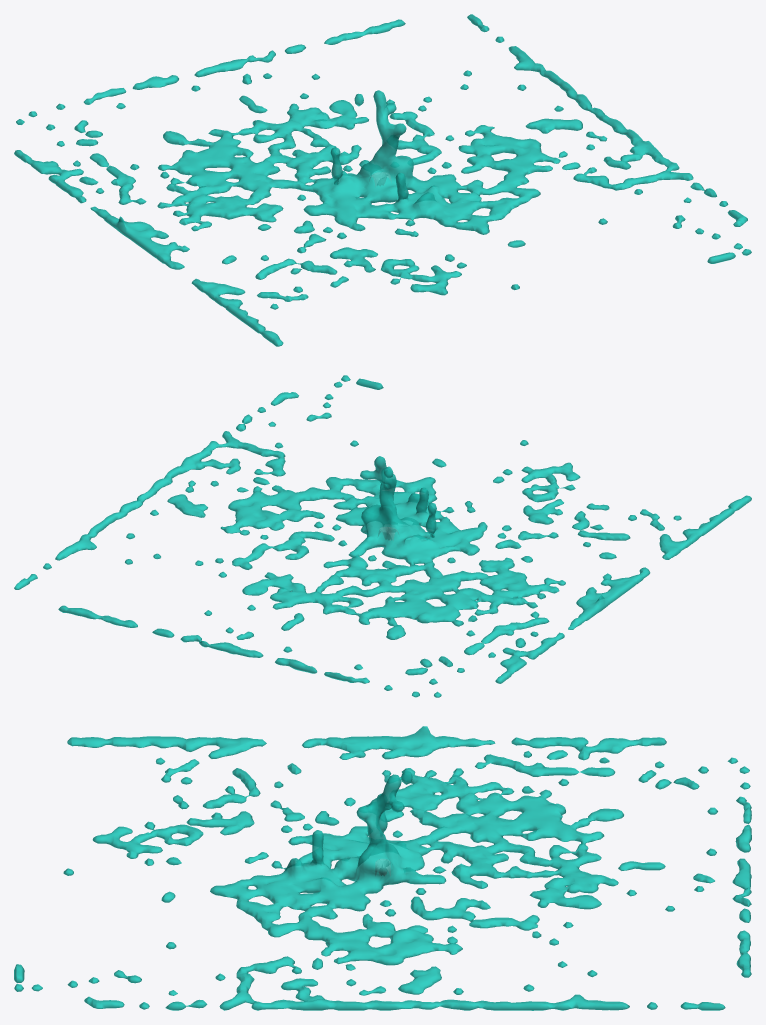
3 views of the same model, one above another, from view 1: azimuth 30°, elevation 25°; view 2: azimuth 150°, elevation 25°; view 3: azimuth 270°, elevation 25° (orthographic). The views are drawn at different scales.
Parts seen in each view (by area): view 1: Liquid_Domain; view 2: Liquid_Domain; view 3: Liquid_Domain.
Part boxes in pixels (bbox=[...]): Liquid_Domain: bbox=[14, 14, 751, 346]; Liquid_Domain: bbox=[14, 375, 751, 697]; Liquid_Domain: bbox=[14, 726, 751, 1010].
Bounding box in the file's own units: 12.44 × 2.27 × 14.41.
